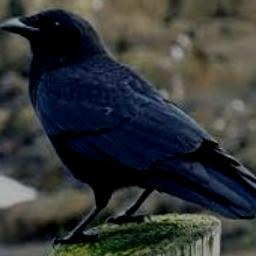Crow: (2, 7, 256, 246)
